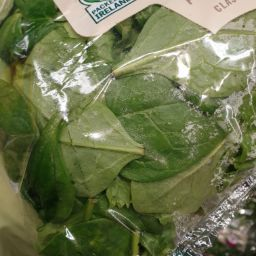Spinach: (113, 42, 246, 191), (35, 73, 139, 207), (15, 30, 103, 148), (108, 160, 224, 231)
